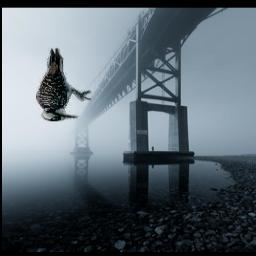Woodpecker: (34, 49, 92, 122)
